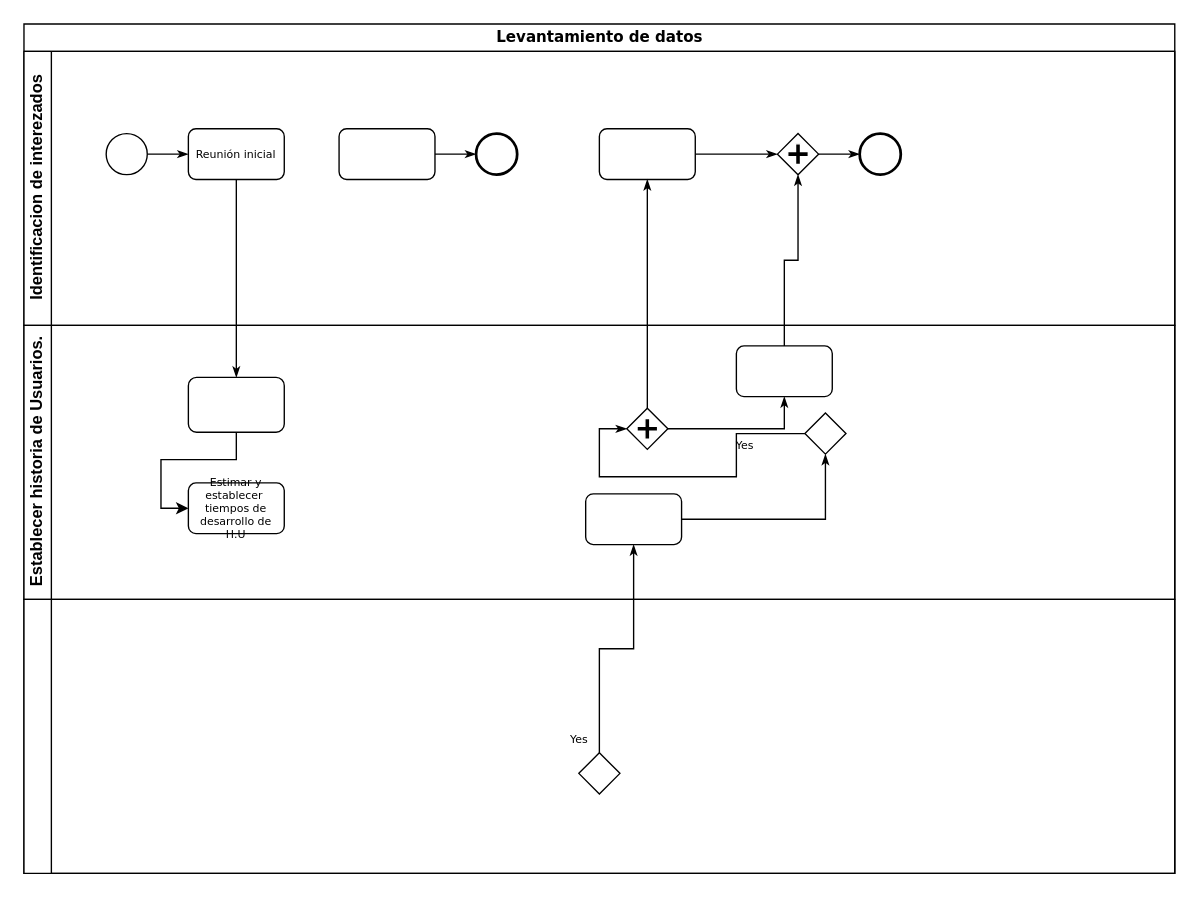
Image size: 1199x897. Some labels were removed from this diagram. The shapes that lost their labels are listed below. From the top down, each one's box as (x1, y1, x2, y2) in pixels, then its label:
(187, 376, 284, 432): Detallar Historia de usuario
(23, 598, 1175, 873): Levantamiento de Requerimientos.
